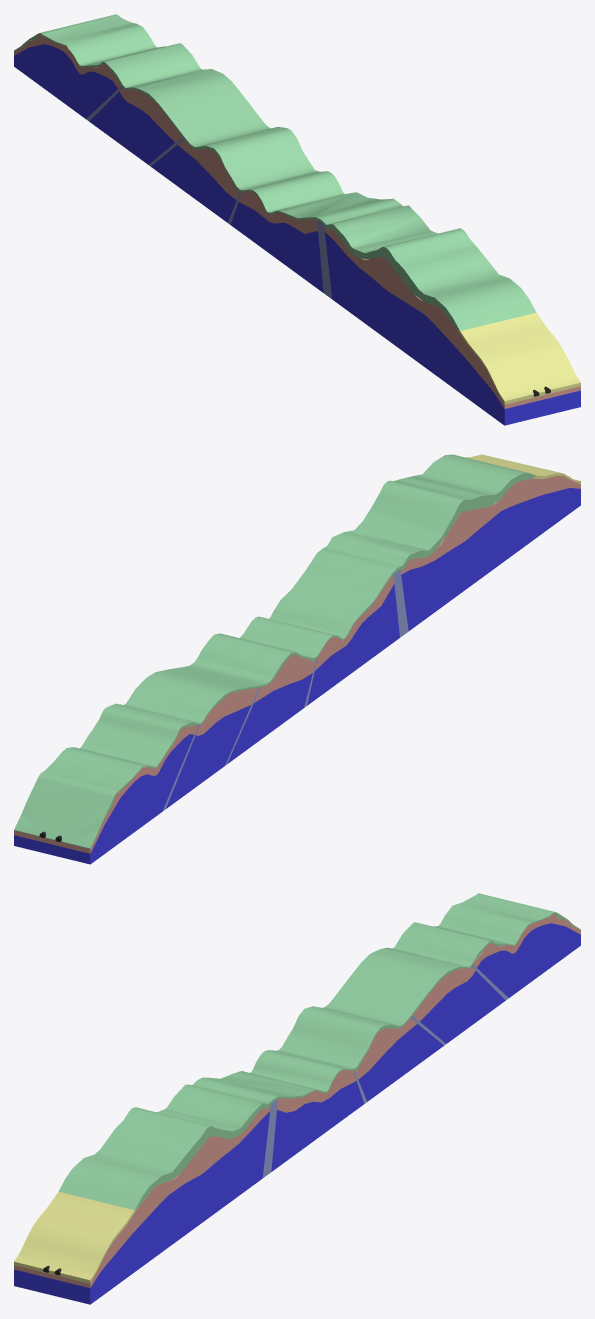
3 views of the same model, one above another, from view 1: azimuth 30°, elevation 25°; view 2: azimuth 150°, elevation 25°; view 3: azimuth 330°, elevation 25° (orthographic).
Visible parts, largest first — view 1: 3, 0, 1, 2, fractures; view 2: 3, 0, 1, fractures, 2; view 3: 3, 0, 1, 2, fractures.
Part boxes in pixels (<box>): 3: <box>14,14,536,331</box>; 0: <box>14,44,580,425</box>; 1: <box>14,34,580,408</box>; 2: <box>456,312,580,404</box>; fractures: <box>86,85,332,299</box>; 3: <box>14,454,535,848</box>; 0: <box>14,488,580,864</box>; 1: <box>14,476,580,853</box>; fractures: <box>162,570,408,811</box>; 2: <box>465,454,580,484</box>; 3: <box>58,893,580,1210</box>; 0: <box>14,923,580,1304</box>; 1: <box>14,913,580,1287</box>; 2: <box>14,1191,138,1283</box>; fractures: <box>262,964,508,1178</box>.
Size of the model in its own units: 155 by 177 by 1724.
